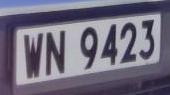2: (119, 15, 140, 70)
3: (137, 15, 158, 65)
4: (100, 16, 121, 73)
9: (78, 21, 101, 76)
N: (43, 27, 70, 81)
W: (20, 28, 46, 84)
